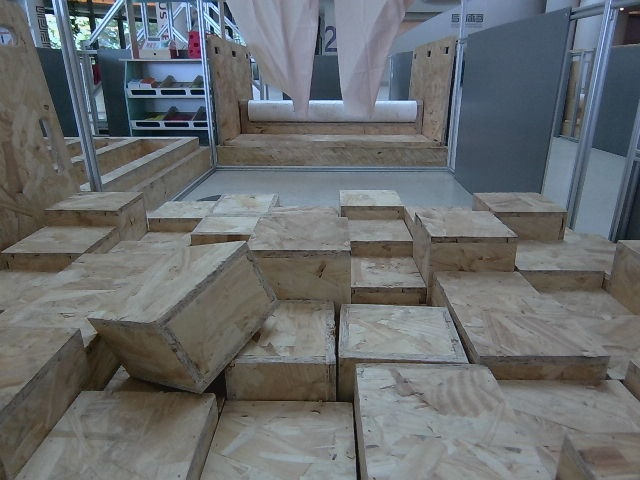curtain: (243, 0, 397, 106)
